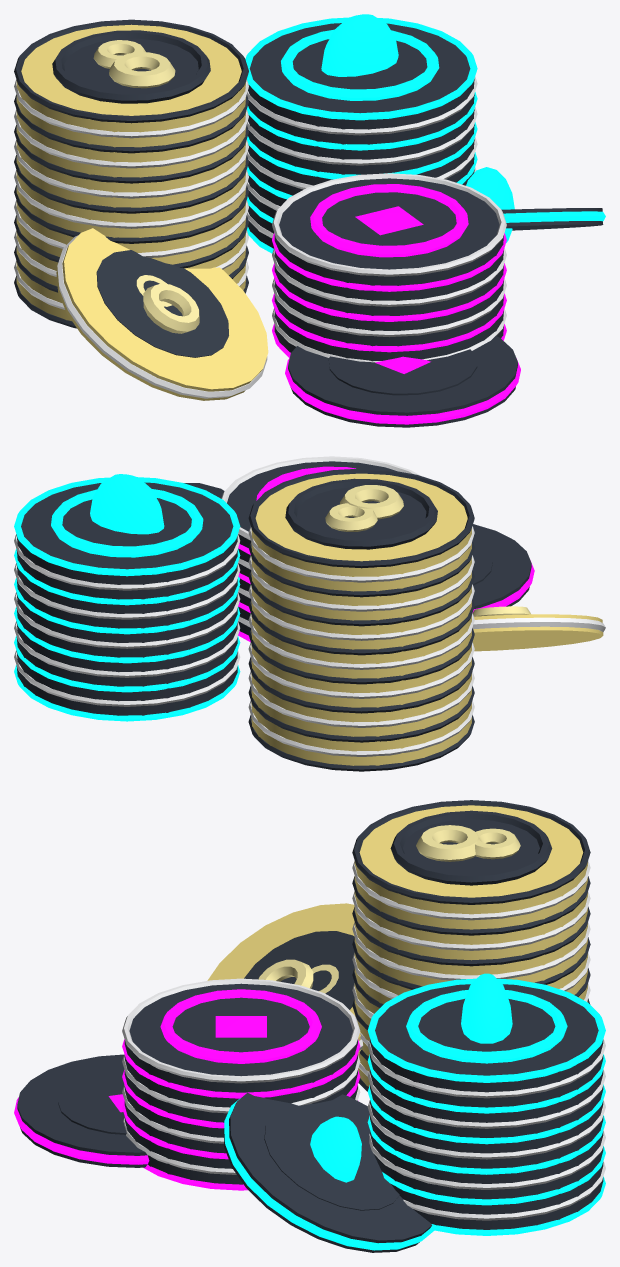
File: chip_stacks.glb
3 renders of one model, top to bottom at view 1: azimuth 30°, elevation 25°; view 2: azimuth 150°, elevation 25°; view 3: azimuth 270°, elevation 25°, orthographic. The views are drawn at different scales.
Visible parts, largest first — view 1: Stack_14_Core, Stack_7_Core, Stack_10_Core, Cylinder.003, Cylinder.007, Cylinder.004, Cylinder.002, Cylinder.008, Torus.038, Torus.015, Sphere, Torus.037 (+36 smaller); view 2: Stack_14_Core, Stack_10_Core, Sphere, Torus.014, Torus.015, Torus.028, Cylinder.007, Cylinder.003, Torus.029, Cylinder, Cylinder.001, Stack_7_Core (+32 smaller); view 3: Stack_10_Core, Stack_14_Core, Stack_7_Core, Cylinder.005, Cylinder.006, Cylinder.007, Cylinder.002, Cylinder.003, Torus.015, Cylinder.004, Torus.038, Torus.014 (+37 smaller).
Boxes of the visible parts, <box> form: Stack_14_Core: <box>16,24,246,320</box>; Stack_7_Core: <box>274,178,503,361</box>; Stack_10_Core: <box>248,23,474,248</box>; Cylinder.003: <box>56,228,268,400</box>; Cylinder.007: <box>288,336,517,427</box>; Cylinder.004: <box>96,250,228,357</box>; Cylinder.002: <box>322,192,456,245</box>; Cylinder.008: <box>328,349,477,395</box>; Torus.038: <box>310,184,468,257</box>; Torus.015: <box>52,30,210,103</box>; Sphere: <box>321,14,398,76</box>; Torus.037: <box>272,173,506,276</box>; Stack_14_Core: <box>251,473,471,765</box>; Stack_10_Core: <box>16,482,237,715</box>; Sphere: <box>90,474,164,534</box>; Torus.014: <box>248,468,474,568</box>; Torus.015: <box>285,478,437,549</box>; Torus.028: <box>14,477,240,576</box>; Cylinder.007: <box>472,524,531,608</box>; Cylinder.003: <box>472,614,603,651</box>; Torus.029: <box>51,489,203,557</box>; Cylinder: <box>297,487,426,538</box>; Cylinder.001: <box>62,498,191,546</box>; Stack_7_Core: <box>227,461,396,635</box>; Stack_10_Core: <box>370,984,603,1229</box>; Stack_14_Core: <box>354,805,587,1086</box>; Stack_7_Core: <box>124,983,357,1184</box>; Cylinder.005: <box>223,1092,431,1252</box>; Cylinder.006: <box>264,1107,399,1210</box>; Cylinder.007: <box>17,1054,147,1167</box>; Cylinder.002: <box>172,997,309,1052</box>; Cylinder.003: <box>207,903,361,1054</box>; Torus.015: <box>390,810,552,885</box>; Cylinder.004: <box>244,931,354,1009</box>; Torus.038: <box>160,989,321,1063</box>; Torus.014: <box>352,800,590,904</box>.
Size of the model in its own units: 0.2056 by 0.0879 by 0.1928.
